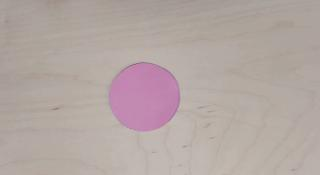Circle: (108, 62, 182, 133)
